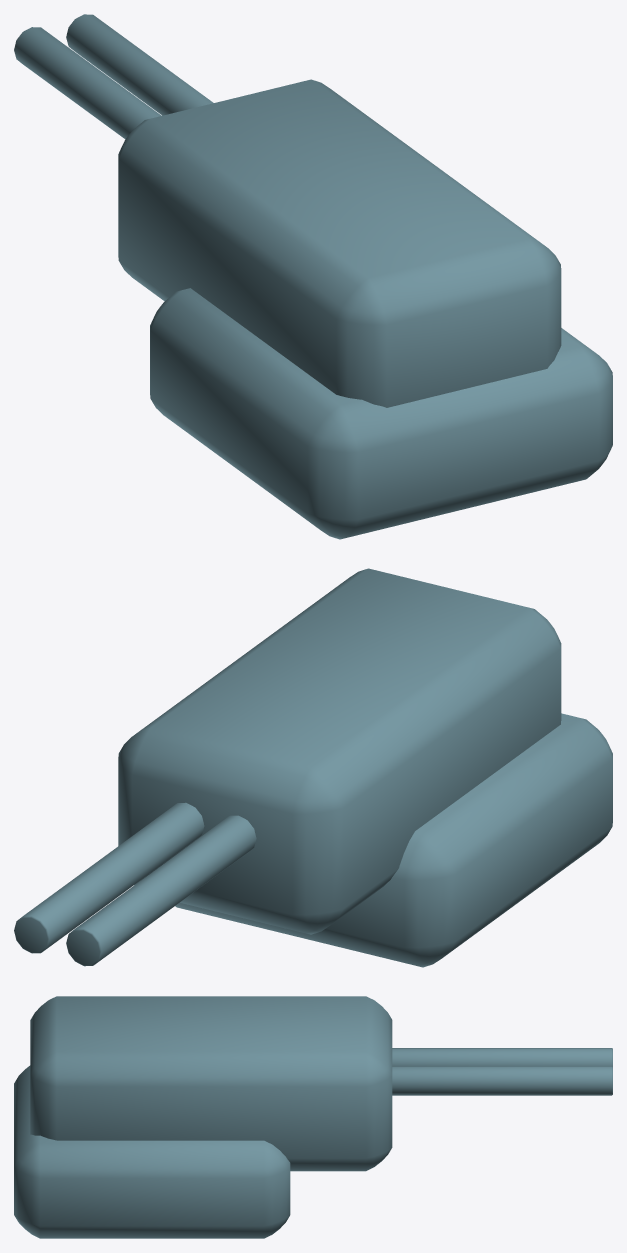
Rendered from EnergyPulse.fbx.
The picture shows the model from 3 angles, top to bottom: view 1: azimuth 30°, elevation 25°; view 2: azimuth 150°, elevation 25°; view 3: azimuth 270°, elevation 25°; orthographic projection. The views are drawn at different scales.
Parts seen in each view (by area): view 1: Render_LOD0; view 2: Render_LOD0; view 3: Render_LOD0.
Part boxes in pixels (x1=…): Render_LOD0: x1=14, y1=14, x2=612, y2=539; Render_LOD0: x1=14, y1=568, x2=612, y2=967; Render_LOD0: x1=14, y1=996, x2=612, y2=1238.
Size of what is drawn, in the model's own units: 0.76 by 0.58 by 1.82.
